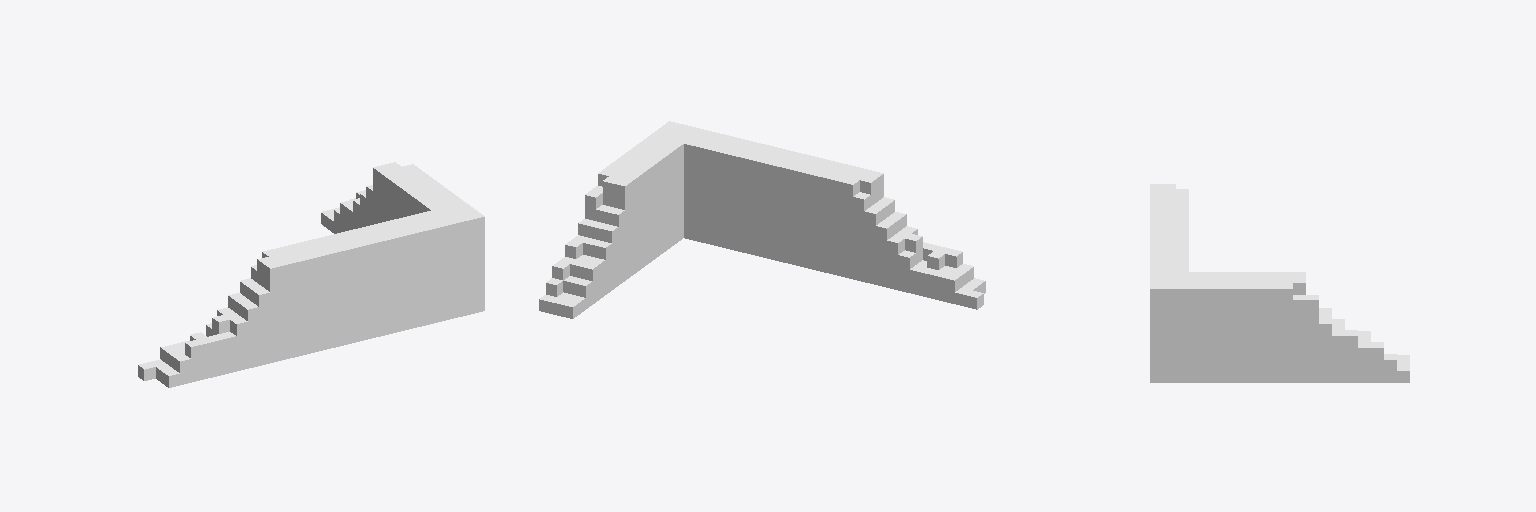
The model's file is muro2.obj.
The picture shows the model from 3 angles: view 1: azimuth 30°, elevation 25°; view 2: azimuth 150°, elevation 25°; view 3: azimuth 270°, elevation 25°; orthographic projection.
Parts seen in each view (by area): view 1: object 1; view 2: object 1; view 3: object 1.
Boxes of the visible parts, box(x1,y1,x2,y2) form: object 1: box(138, 162, 484, 387); object 1: box(539, 121, 985, 318); object 1: box(1150, 184, 1409, 382).
Bounding box in the file's own units: 2.9 × 0.8 × 2.